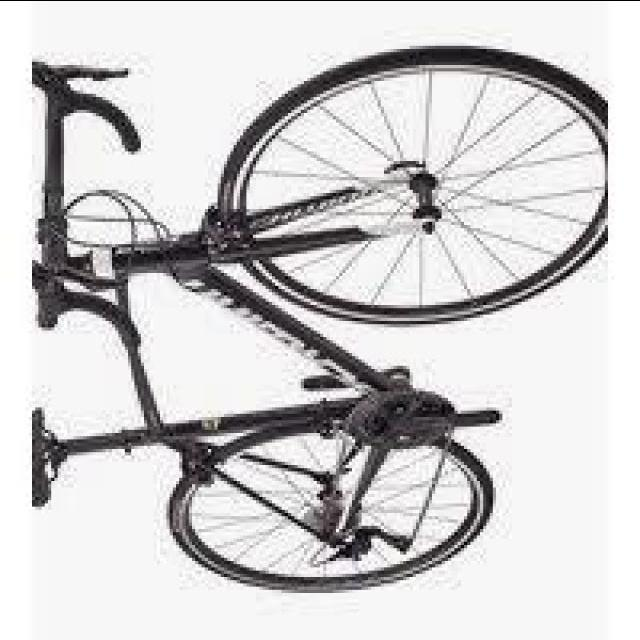bicycle: (27, 43, 523, 593)
